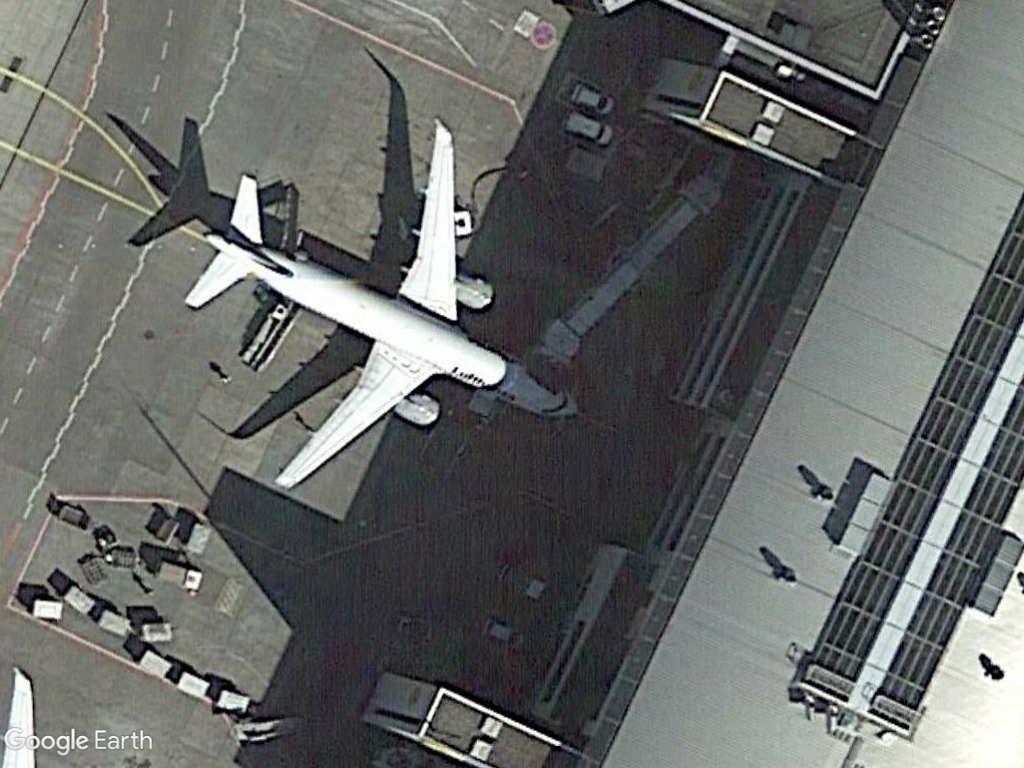airliner: (175, 114, 579, 498)
stairtruck: (240, 301, 302, 374)
